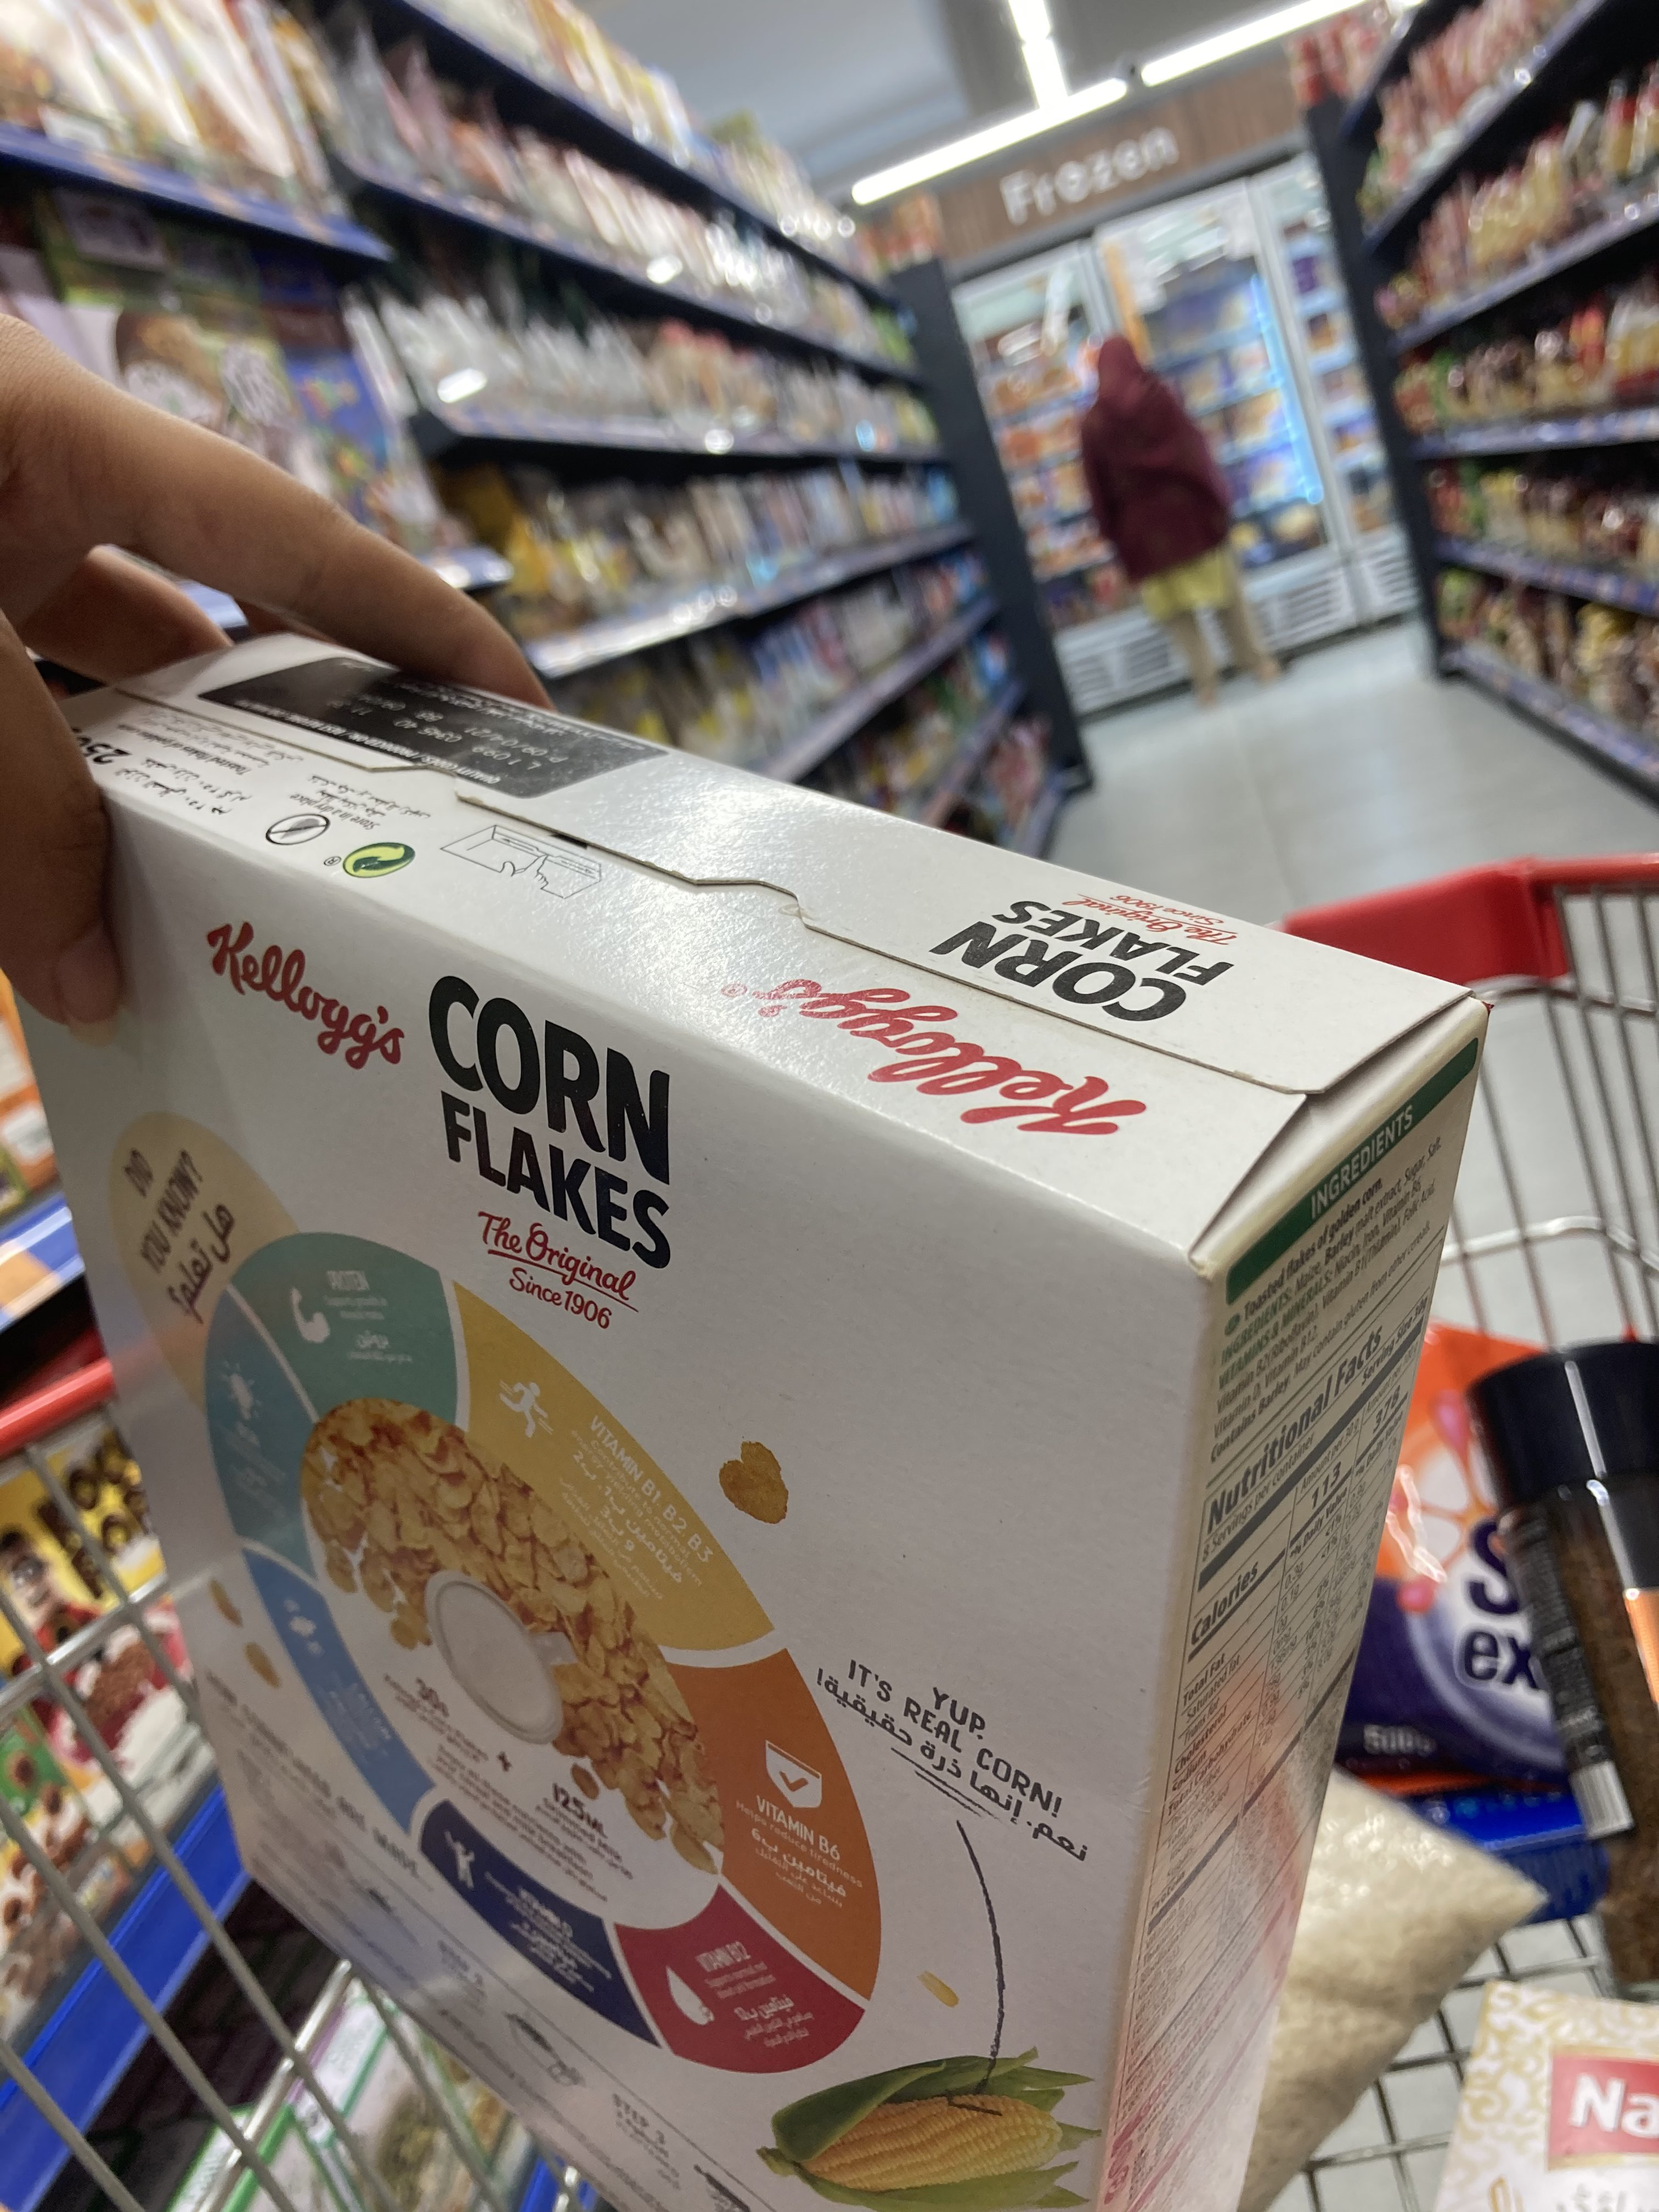Kellogg's Corn Flakes: (5, 615, 1493, 2212)
